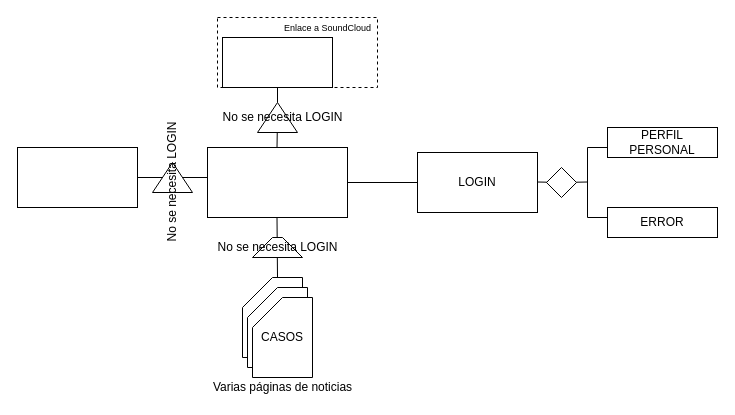
This 735x415 diagram has some shape labels left out. The shapes that lost their labels are listed below. From the top down, each one's box as (x1, y1, x2, y2) in pixels, then its label:
(222, 36, 332, 88): PODCAST
(16, 146, 138, 208): SOBRE NOSOTROS
(206, 146, 348, 218): CABECERA
